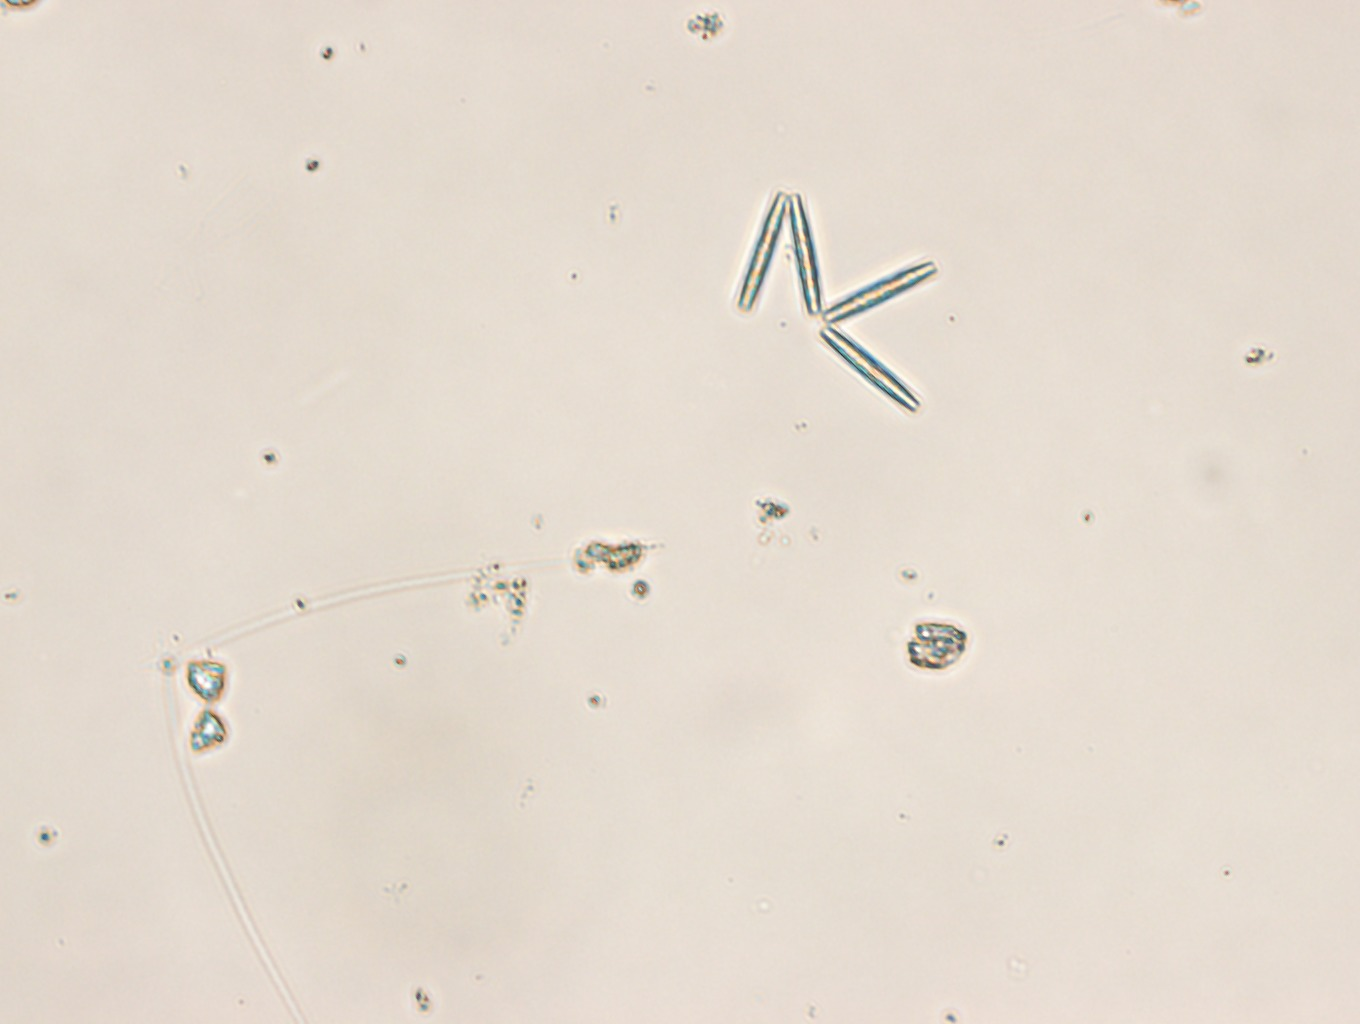thalassionema nitzschioides: (734, 190, 939, 414)
